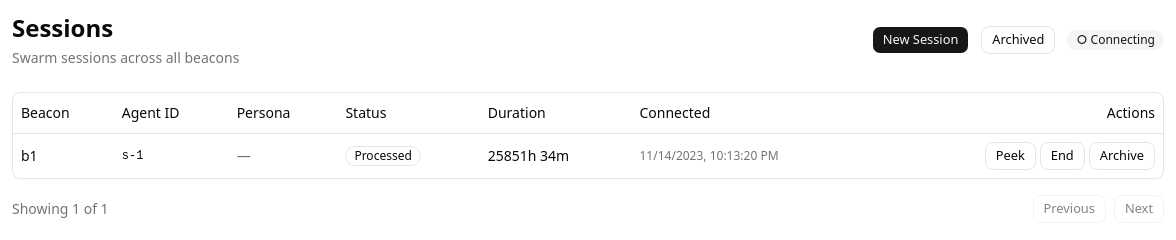
Scenario: SessionsPage archive actions › shows an in-place pending row with an Undo button after archiving
The image size is (1176, 240).
Check: the text "Processed" is shown, box left=345, top=146, right=421, bottom=166
Click the button "Archive": [1122, 156] box left=1089, top=142, right=1155, bottom=170
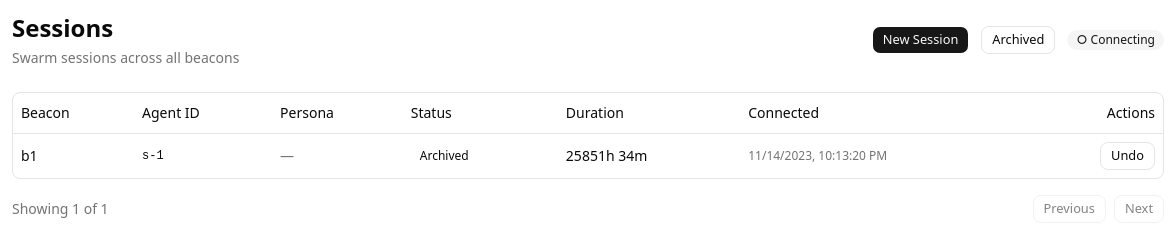
Check: the button "Undo" is shown, box left=1100, top=142, right=1155, bottom=170
Check: the button "End" is gone
Check: the button "Peek" is gone
